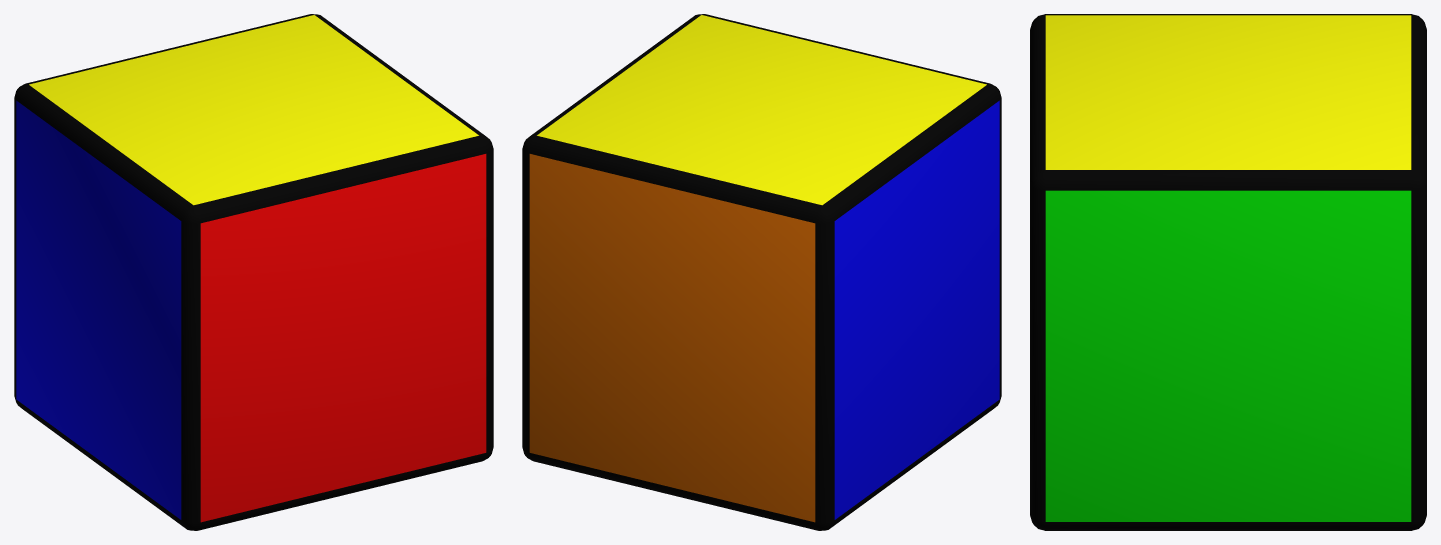
3 renders of one model, left to right at view 1: azimuth 30°, elevation 25°; view 2: azimuth 150°, elevation 25°; view 3: azimuth 270°, elevation 25°, orthographic. The views are drawn at different scales.
Parts seen in each view (by area): view 1: 立方体.020; view 2: 立方体.020; view 3: 立方体.020.
Part boxes in pixels (x1=…): 立方体.020: x1=14, y1=14, x2=493, y2=530; 立方体.020: x1=522, y1=14, x2=1001, y2=530; 立方体.020: x1=1030, y1=14, x2=1426, y2=530.
Size of the model in its own units: 2 by 2 by 2.
